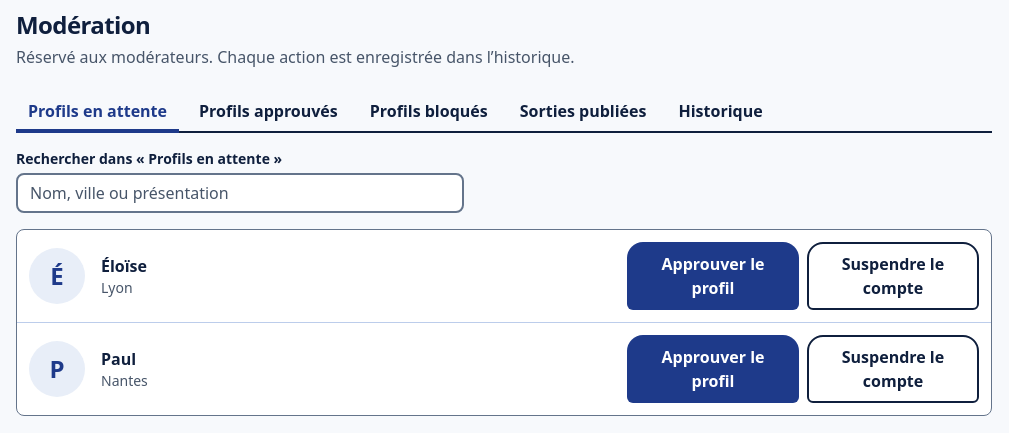
Scenario: ModerationView › filtre la liste par nom ou ville, sans tenir compte des accents ni de la casse
This screenshot has width=1009, height=433.
Type "eloise" into the search field with id "mod-search".
click(240, 193); type("eloise")  # box 16,173 -> 464,213
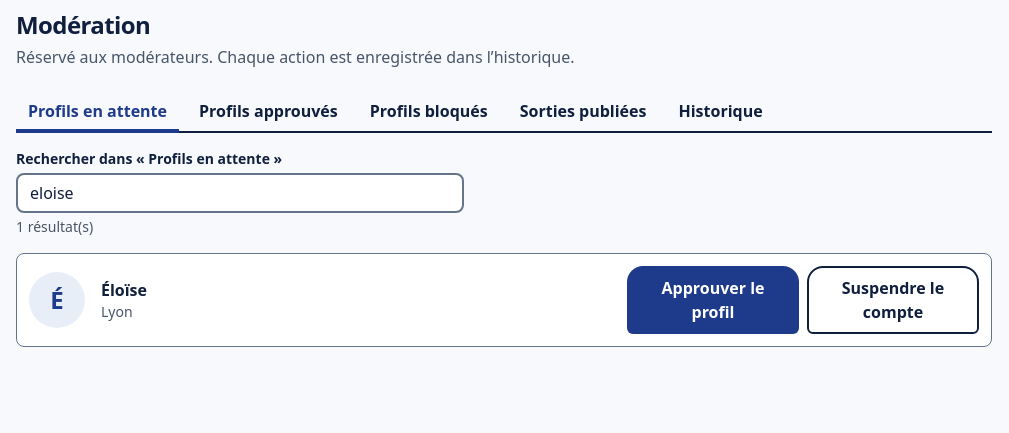
Expected: the text "Éloïse" is shown, 101,278 -> 147,302
Result: the text "Paul" is gone
Result: the text "1 résultat(s)" is shown at 16,217 -> 93,236
Replace the text in the search field with id "mod-search" with "nantes" at (240, 193), box 16,173 -> 464,213
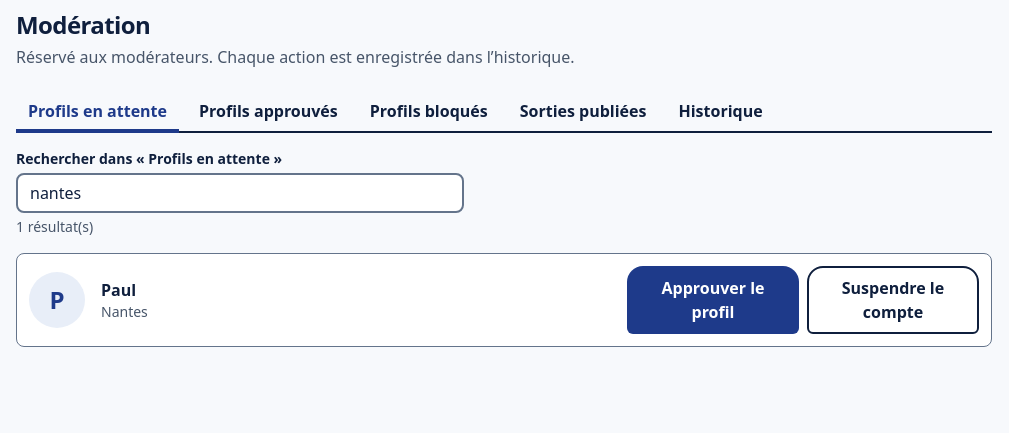
Result: the text "Paul" is shown at 101,279 -> 136,301
Result: the text "Éloïse" is gone
Replace the text in the search field with id "mod-search" with "zzz" at (240, 193), box 16,173 -> 464,213
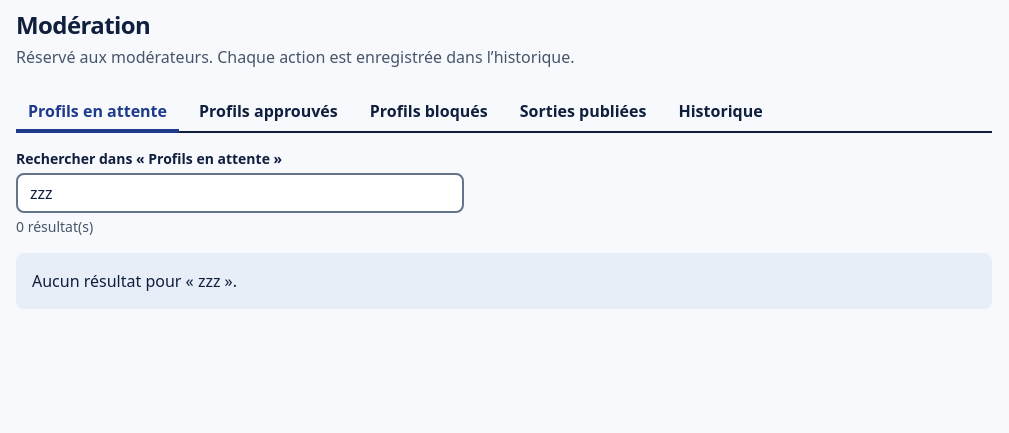
Result: the text "Aucun résultat pour « zzz »" is shown at 32,270 -> 237,292
